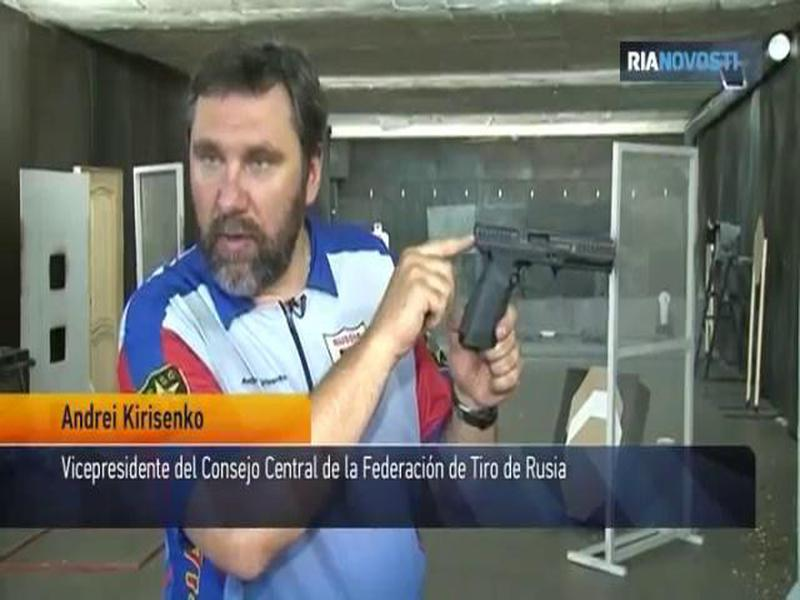Pistola: (453, 220, 628, 351)
